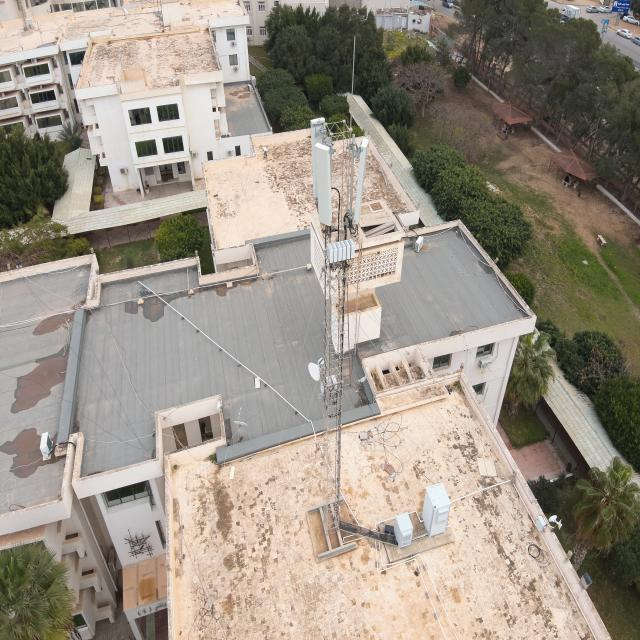antenna: (311, 137, 336, 230), (309, 115, 328, 230), (351, 134, 370, 238)
lighnig-rad: (346, 28, 361, 136)
microware-dish: (309, 352, 327, 386)
power-box: (319, 371, 339, 397)
radio-unit: (322, 238, 358, 262)
